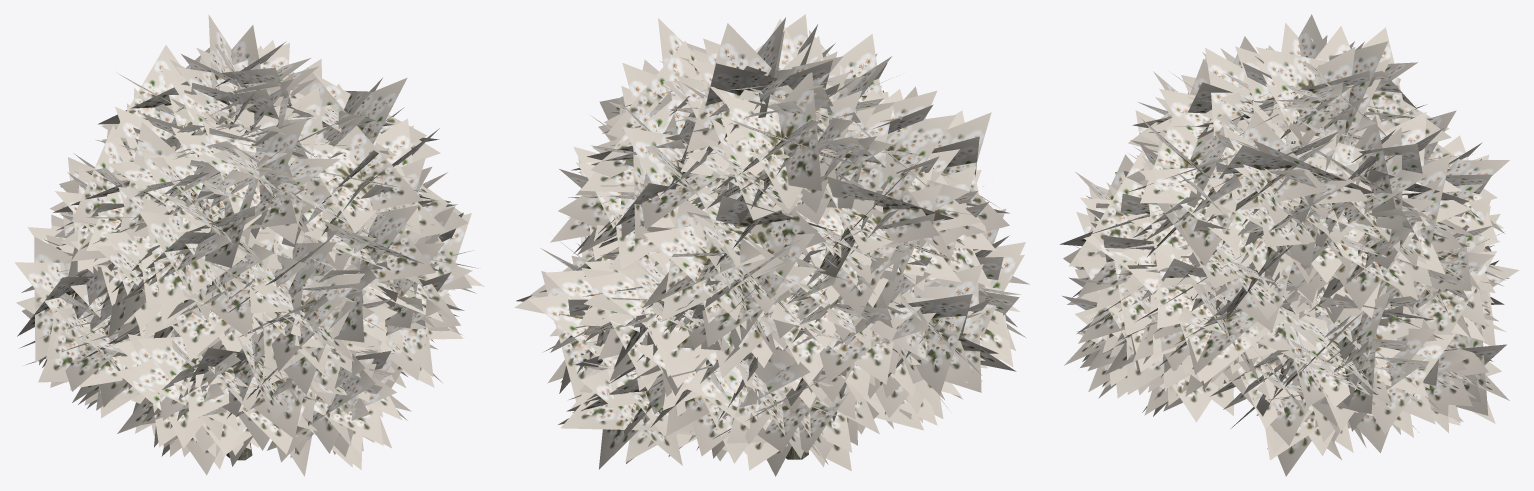
Rendered from Prunus_Armeniaca_Spring_Adult.glb.
3 renders of one model, left to right at view 1: azimuth 30°, elevation 25°; view 2: azimuth 150°, elevation 25°; view 3: azimuth 270°, elevation 25°, orthographic. The views are drawn at different scales.
Visible parts, largest first — view 1: Prunus_Armeniaca_Spring_Adult__LOD3; view 2: Prunus_Armeniaca_Spring_Adult__LOD3; view 3: Prunus_Armeniaca_Spring_Adult__LOD3.
Boxes of the visible parts, x1,y1,x2,y2 form: Prunus_Armeniaca_Spring_Adult__LOD3: [14, 14, 483, 476]; Prunus_Armeniaca_Spring_Adult__LOD3: [514, 14, 1029, 476]; Prunus_Armeniaca_Spring_Adult__LOD3: [1060, 14, 1519, 476].
Bounding box in the file's own units: 10.32 × 9.31 × 9.72.
Materials: 2 (2 with a texture image).
